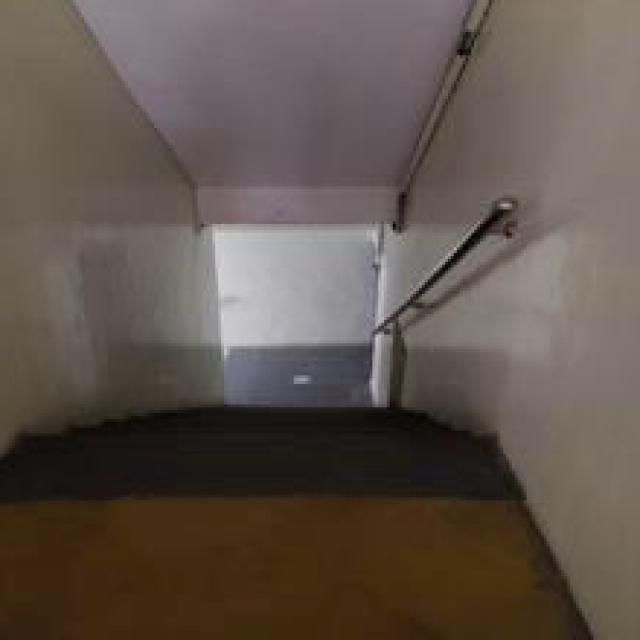downstair: (132, 365, 376, 490)
